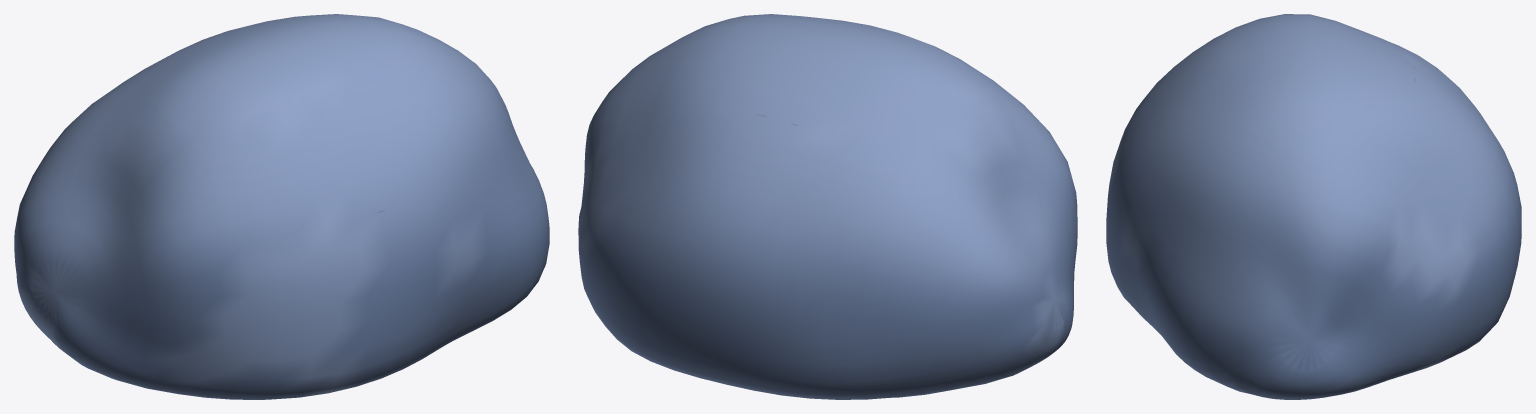
Rendered from rock_small.glb.
The picture shows the model from 3 angles, left to right: view 1: azimuth 30°, elevation 25°; view 2: azimuth 150°, elevation 25°; view 3: azimuth 270°, elevation 25°; orthographic projection. The views are drawn at different scales.
Visible parts, largest first — view 1: RockSmall; view 2: RockSmall; view 3: RockSmall.
Part boxes in pixels (x1,y1,x2,y2): RockSmall: [14, 14, 549, 399]; RockSmall: [578, 14, 1077, 399]; RockSmall: [1106, 14, 1521, 399].
Size of the model in its own units: 0.7801 by 0.4453 by 0.6204.
1 material, 1 textured.
